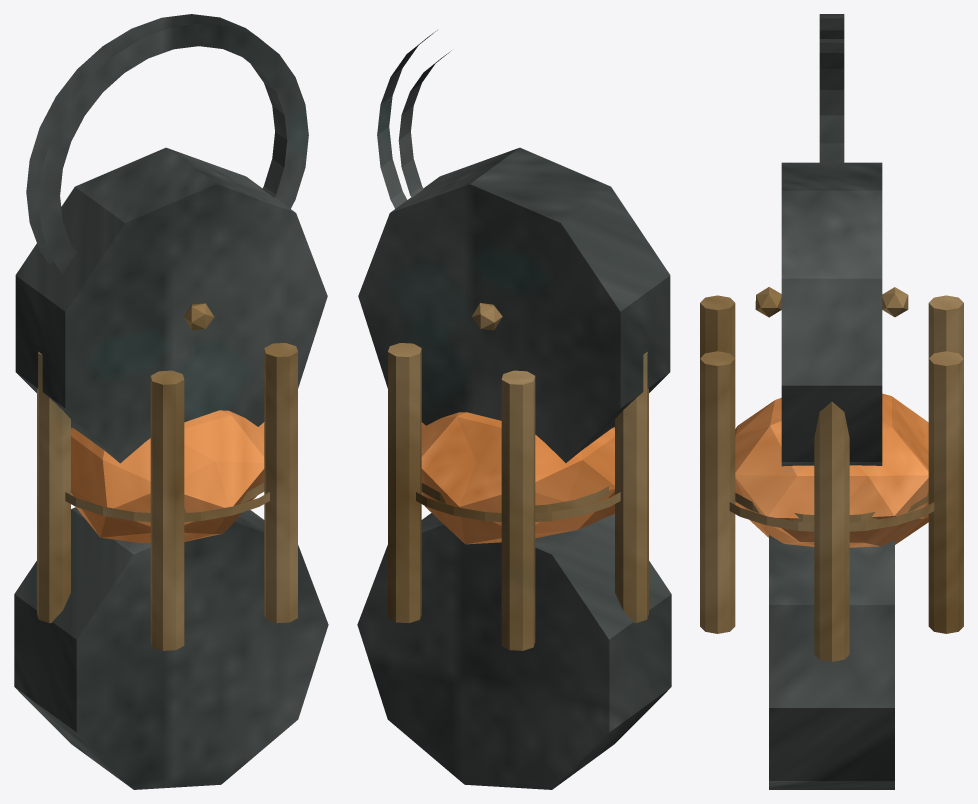
The model's file is 0902_lantern_02.glb.
The picture shows the model from 3 angles, left to right: view 1: azimuth 30°, elevation 25°; view 2: azimuth 150°, elevation 25°; view 3: azimuth 270°, elevation 25°; orthographic projection.
Visible parts, largest first — view 1: iron, brass, amber; view 2: iron, brass, amber; view 3: iron, brass, amber.
Boxes of the visible parts, <box> form: iron: <box>14,14,328,789</box>; brass: <box>37,303,297,650</box>; amber: <box>71,410,264,543</box>; iron: <box>357,30,671,789</box>; brass: <box>388,303,648,650</box>; amber: <box>421,412,614,544</box>; iron: <box>769,14,894,789</box>; brass: <box>700,287,963,661</box>; amber: <box>735,393,928,547</box>.
Size of the model in its own units: 0.5 by 1.32 by 0.4197.
Materials: 3 (3 with a texture image).
